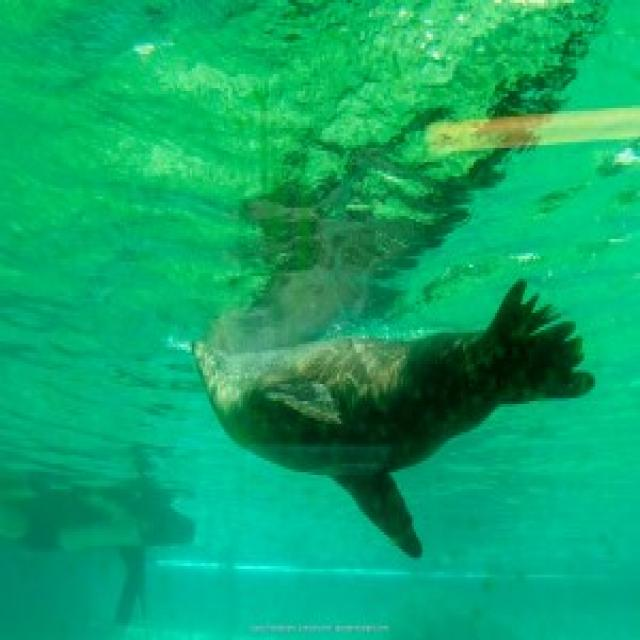Seal: (175, 314, 638, 478)
